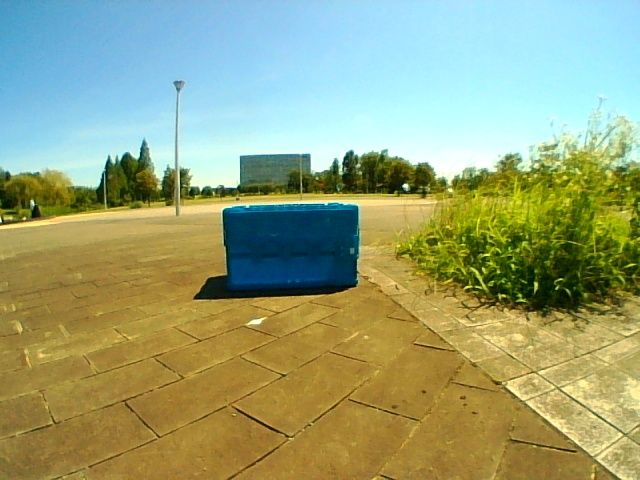blue_box: (230, 206, 358, 283)
